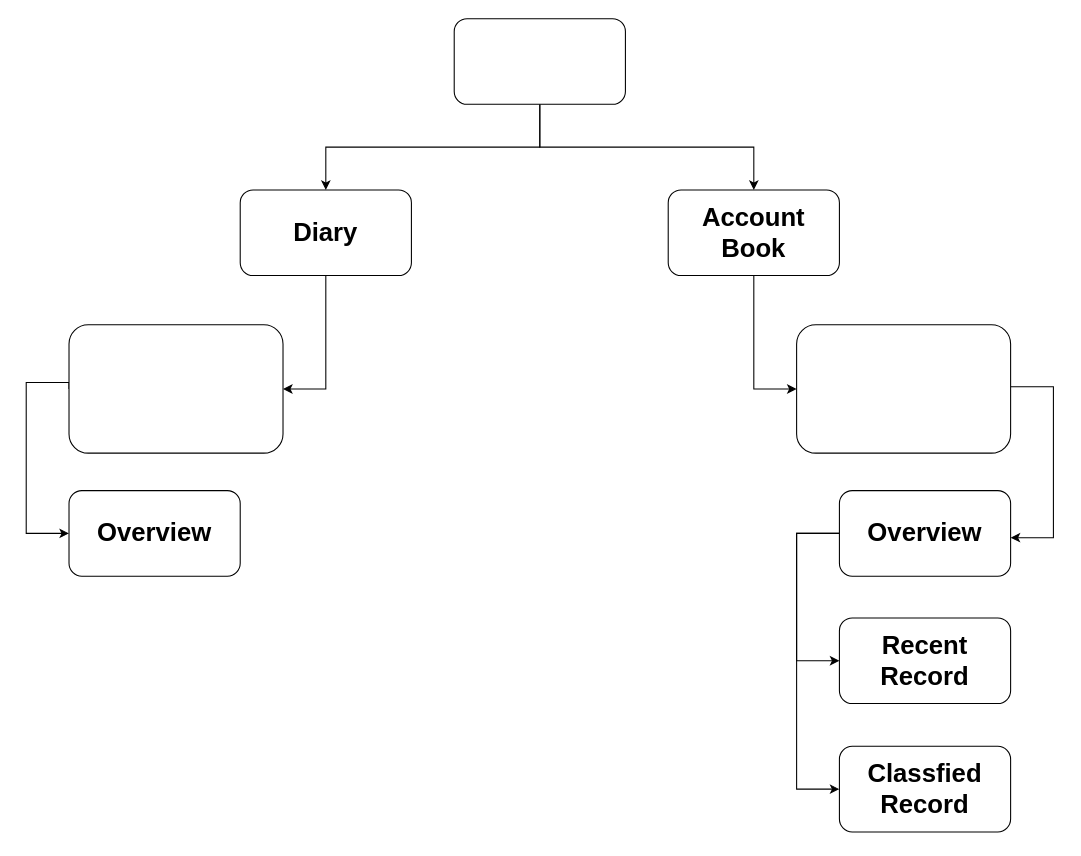
The diagram is 1081 pixels wide and 856 high, and some of its shapes have lost their labels. The shapes that lost their labels are listed below. From the top down, each one's box as (x1, y1, x2, y2) in pixels, then its label:
(453, 18, 625, 104): LifeNote
(68, 324, 283, 453): New Diary History Diary
(796, 324, 1011, 453): New Record Search Record
